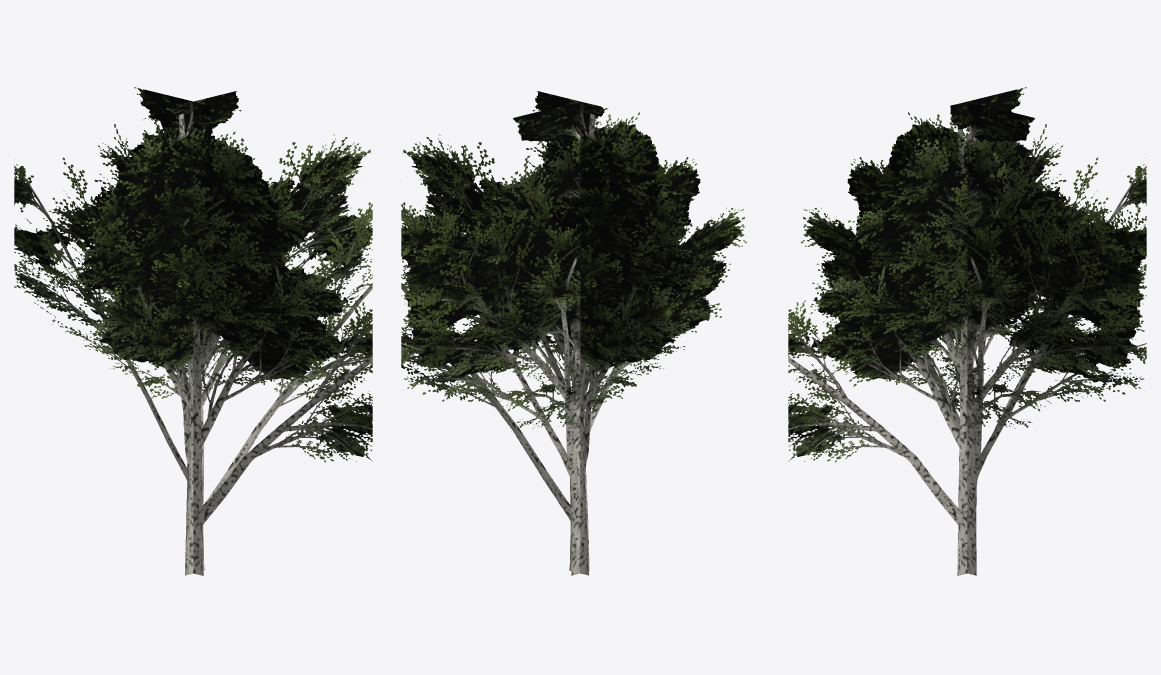
Rendered from briza_stara_daleko.glb.
The picture shows the model from 3 angles, left to right: view 1: azimuth 30°, elevation 25°; view 2: azimuth 150°, elevation 25°; view 3: azimuth 270°, elevation 25°; orthographic projection.
Visible parts, largest first — view 1: briza_stara_daleko; view 2: briza_stara_daleko; view 3: briza_stara_daleko.
Part boxes in pixels (x1,y1,x2,y2): briza_stara_daleko: [14, 87, 372, 575]; briza_stara_daleko: [401, 91, 746, 575]; briza_stara_daleko: [788, 87, 1146, 575].
Bounding box in the file's own units: 14.34 × 18.04 × 12.42.
Materials: 3 (3 with a texture image).
